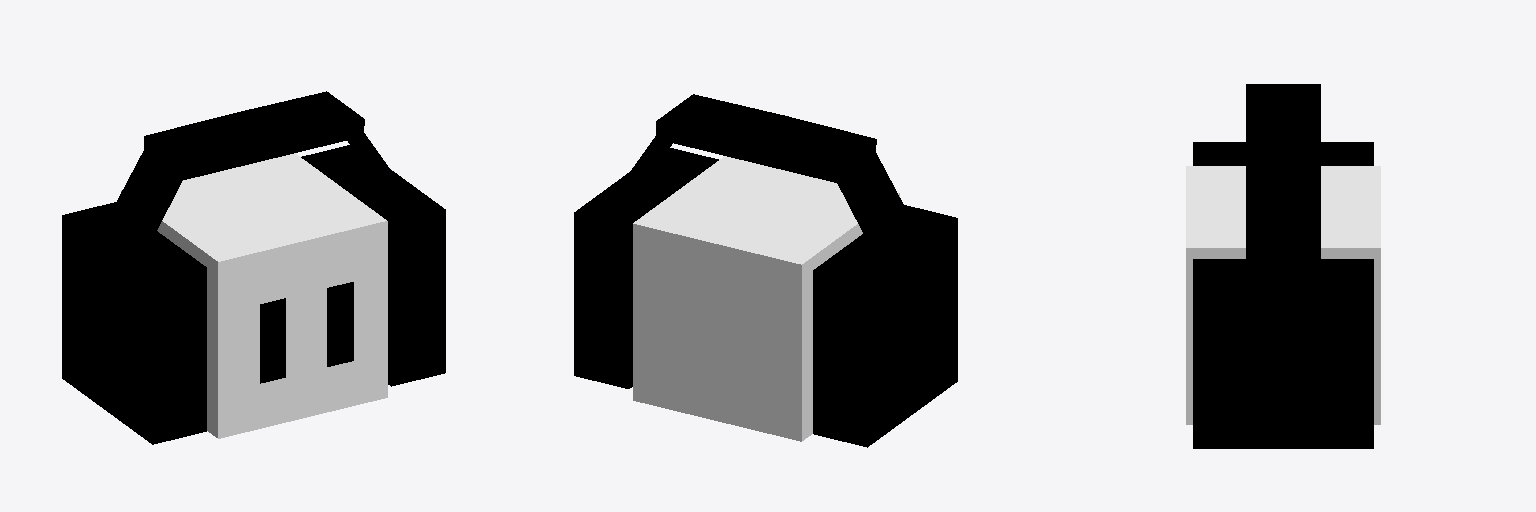
3 views of the same model, side by side, from view 1: azimuth 30°, elevation 25°; view 2: azimuth 150°, elevation 25°; view 3: azimuth 270°, elevation 25° (orthographic).
Parts seen in each view (by area): view 1: pPlane9; view 2: pPlane9; view 3: pPlane9.
Boxes of the visible parts, box(x1,y1,x2,y2) form: pPlane9: box(62, 91, 445, 444); pPlane9: box(574, 94, 957, 447); pPlane9: box(1186, 84, 1380, 448).
Bounding box in the file's own units: 9.71 × 7.24 × 5.19.
Materials: 1 (1 with a texture image).